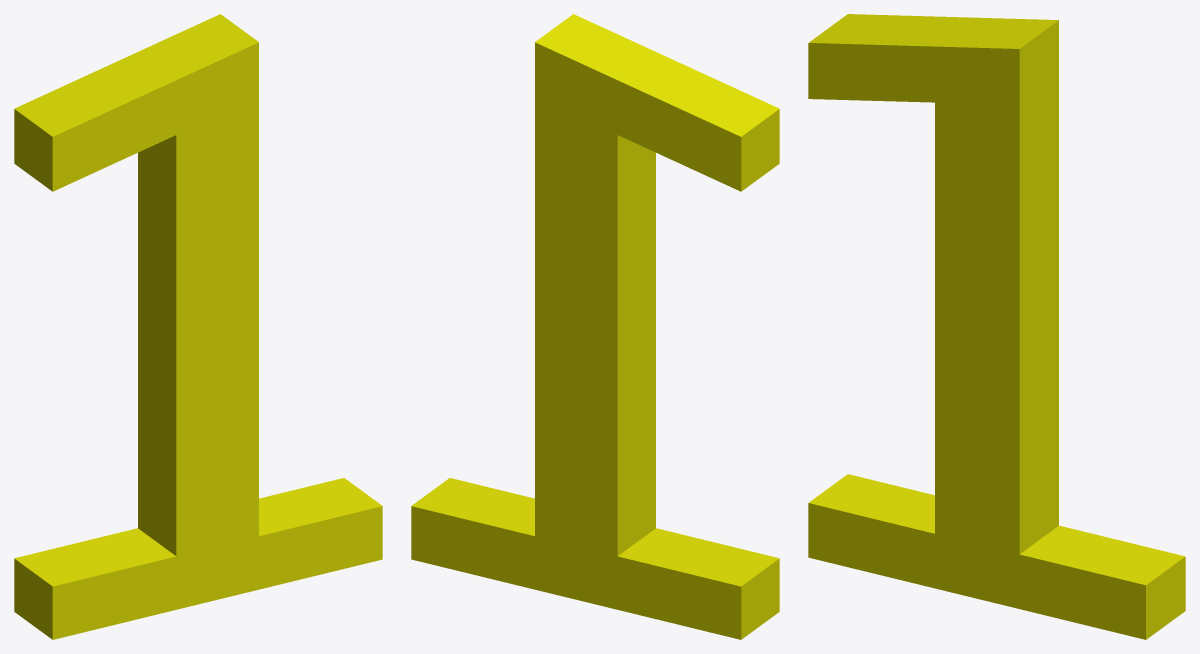
The model's file is bir.fbx.
3 renders of one model, left to right at view 1: azimuth 30°, elevation 25°; view 2: azimuth 150°, elevation 25°; view 3: azimuth 330°, elevation 25°, orthographic. The views are drawn at different scales.
Parts seen in each view (by area): view 1: typeMesh1; view 2: typeMesh1; view 3: typeMesh1.
Part boxes in pixels (x1,y1,x2,y2): typeMesh1: (14,14,382,639); typeMesh1: (411,14,779,639); typeMesh1: (808,14,1185,639).
Bounding box in the file's own units: 6.43 × 10.2 × 1.3.
